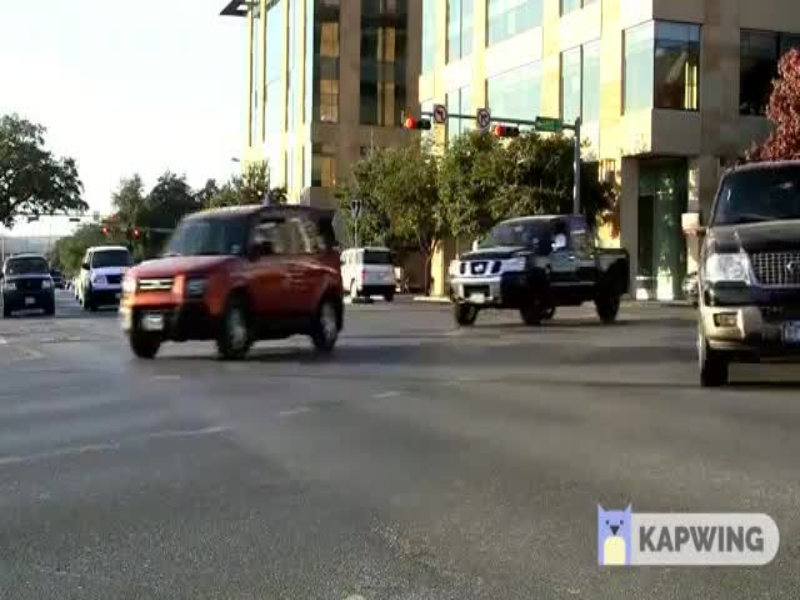car: (121, 210, 355, 355), (672, 156, 800, 390), (445, 213, 639, 334), (1, 251, 64, 316)
